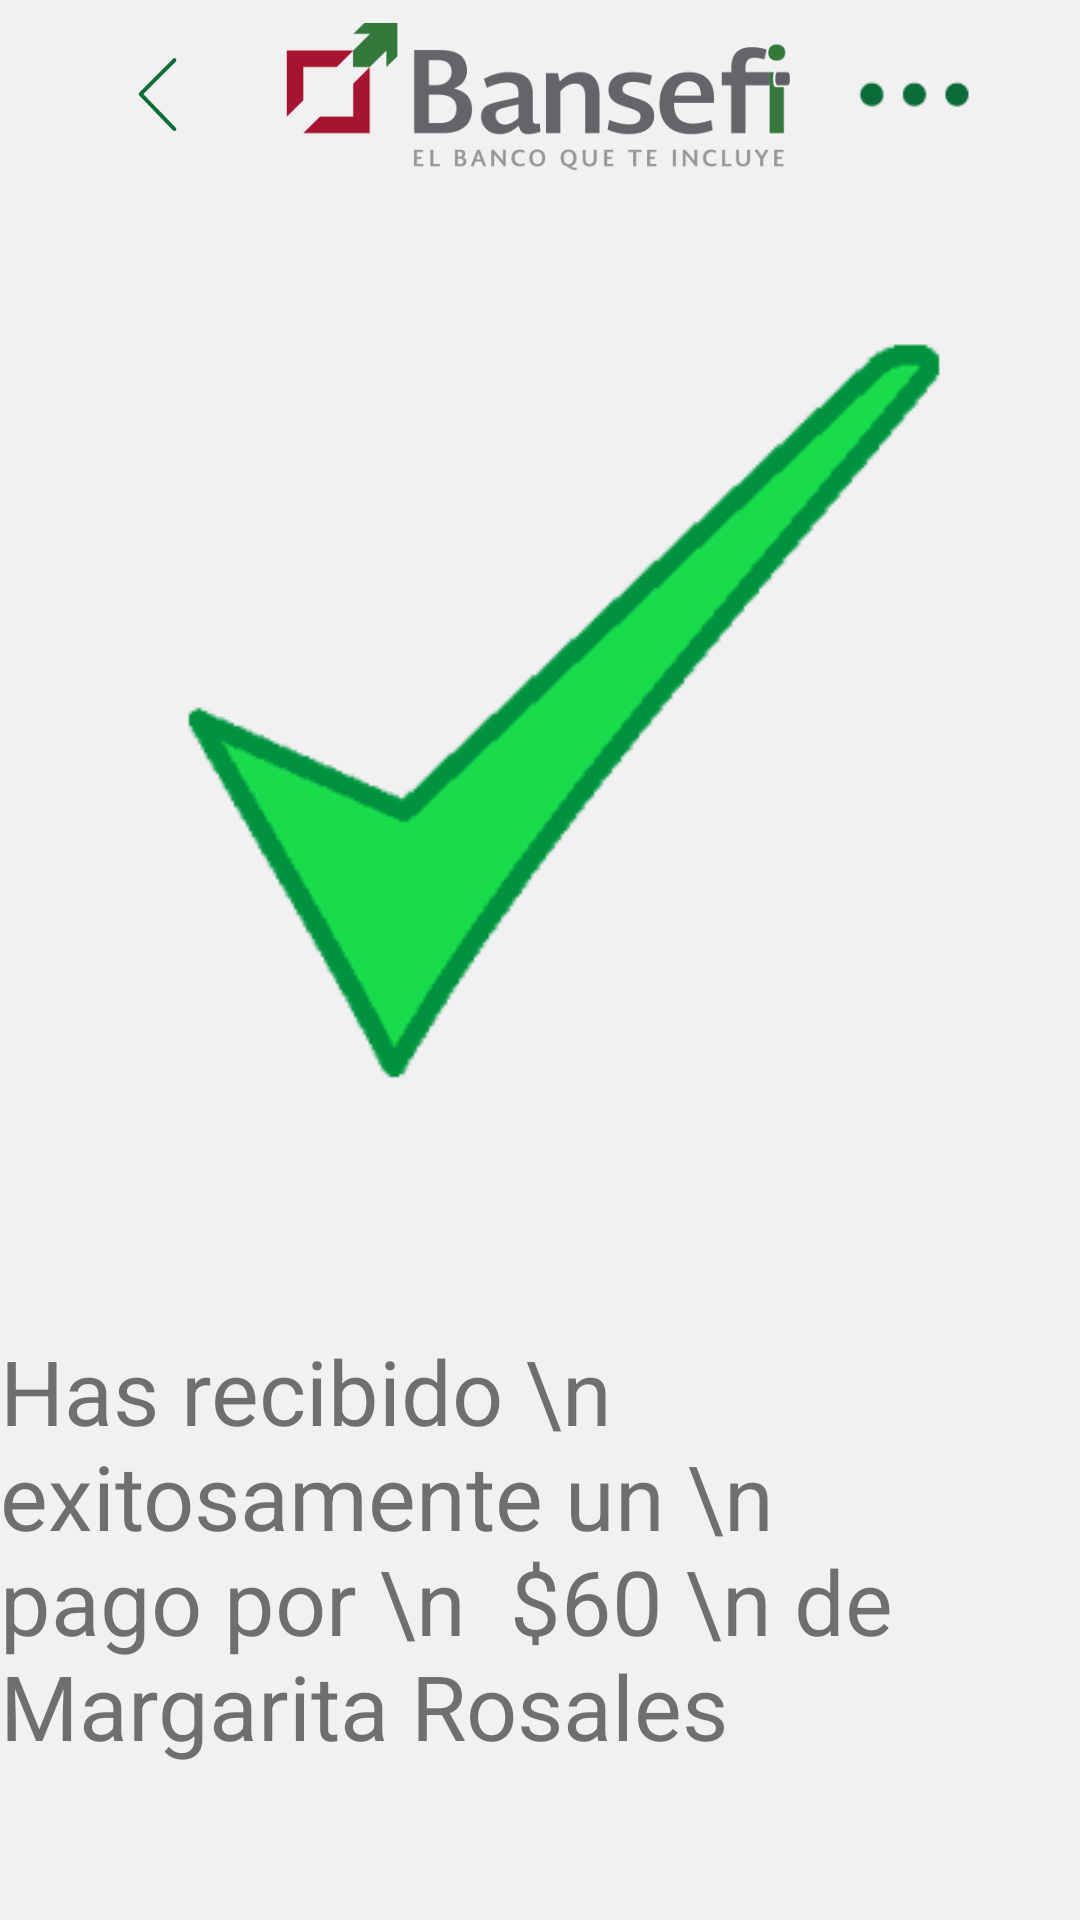

Icons on this 1080×1920 Android screen, each with its box as (x1, y1, x2, y2):
return: (138, 58, 177, 131)
